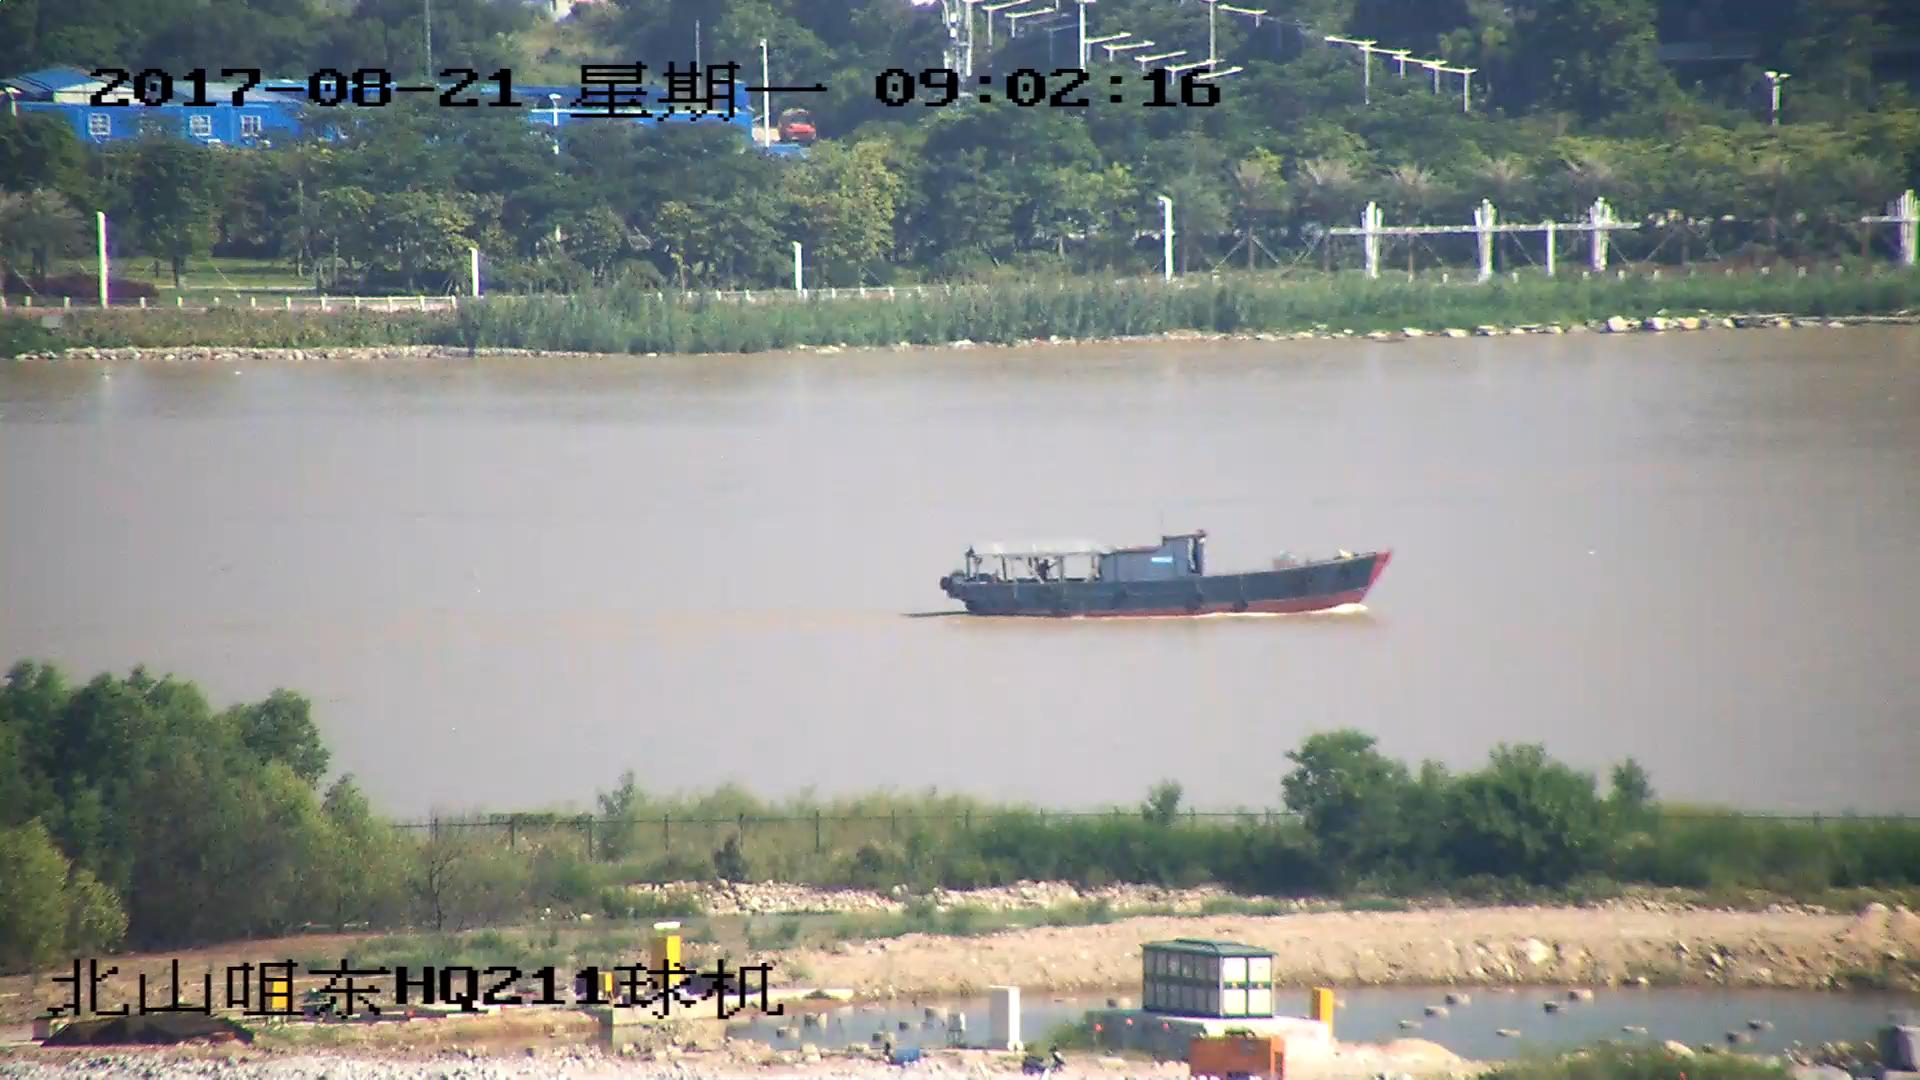fishing boat: (944, 536, 1392, 622)
